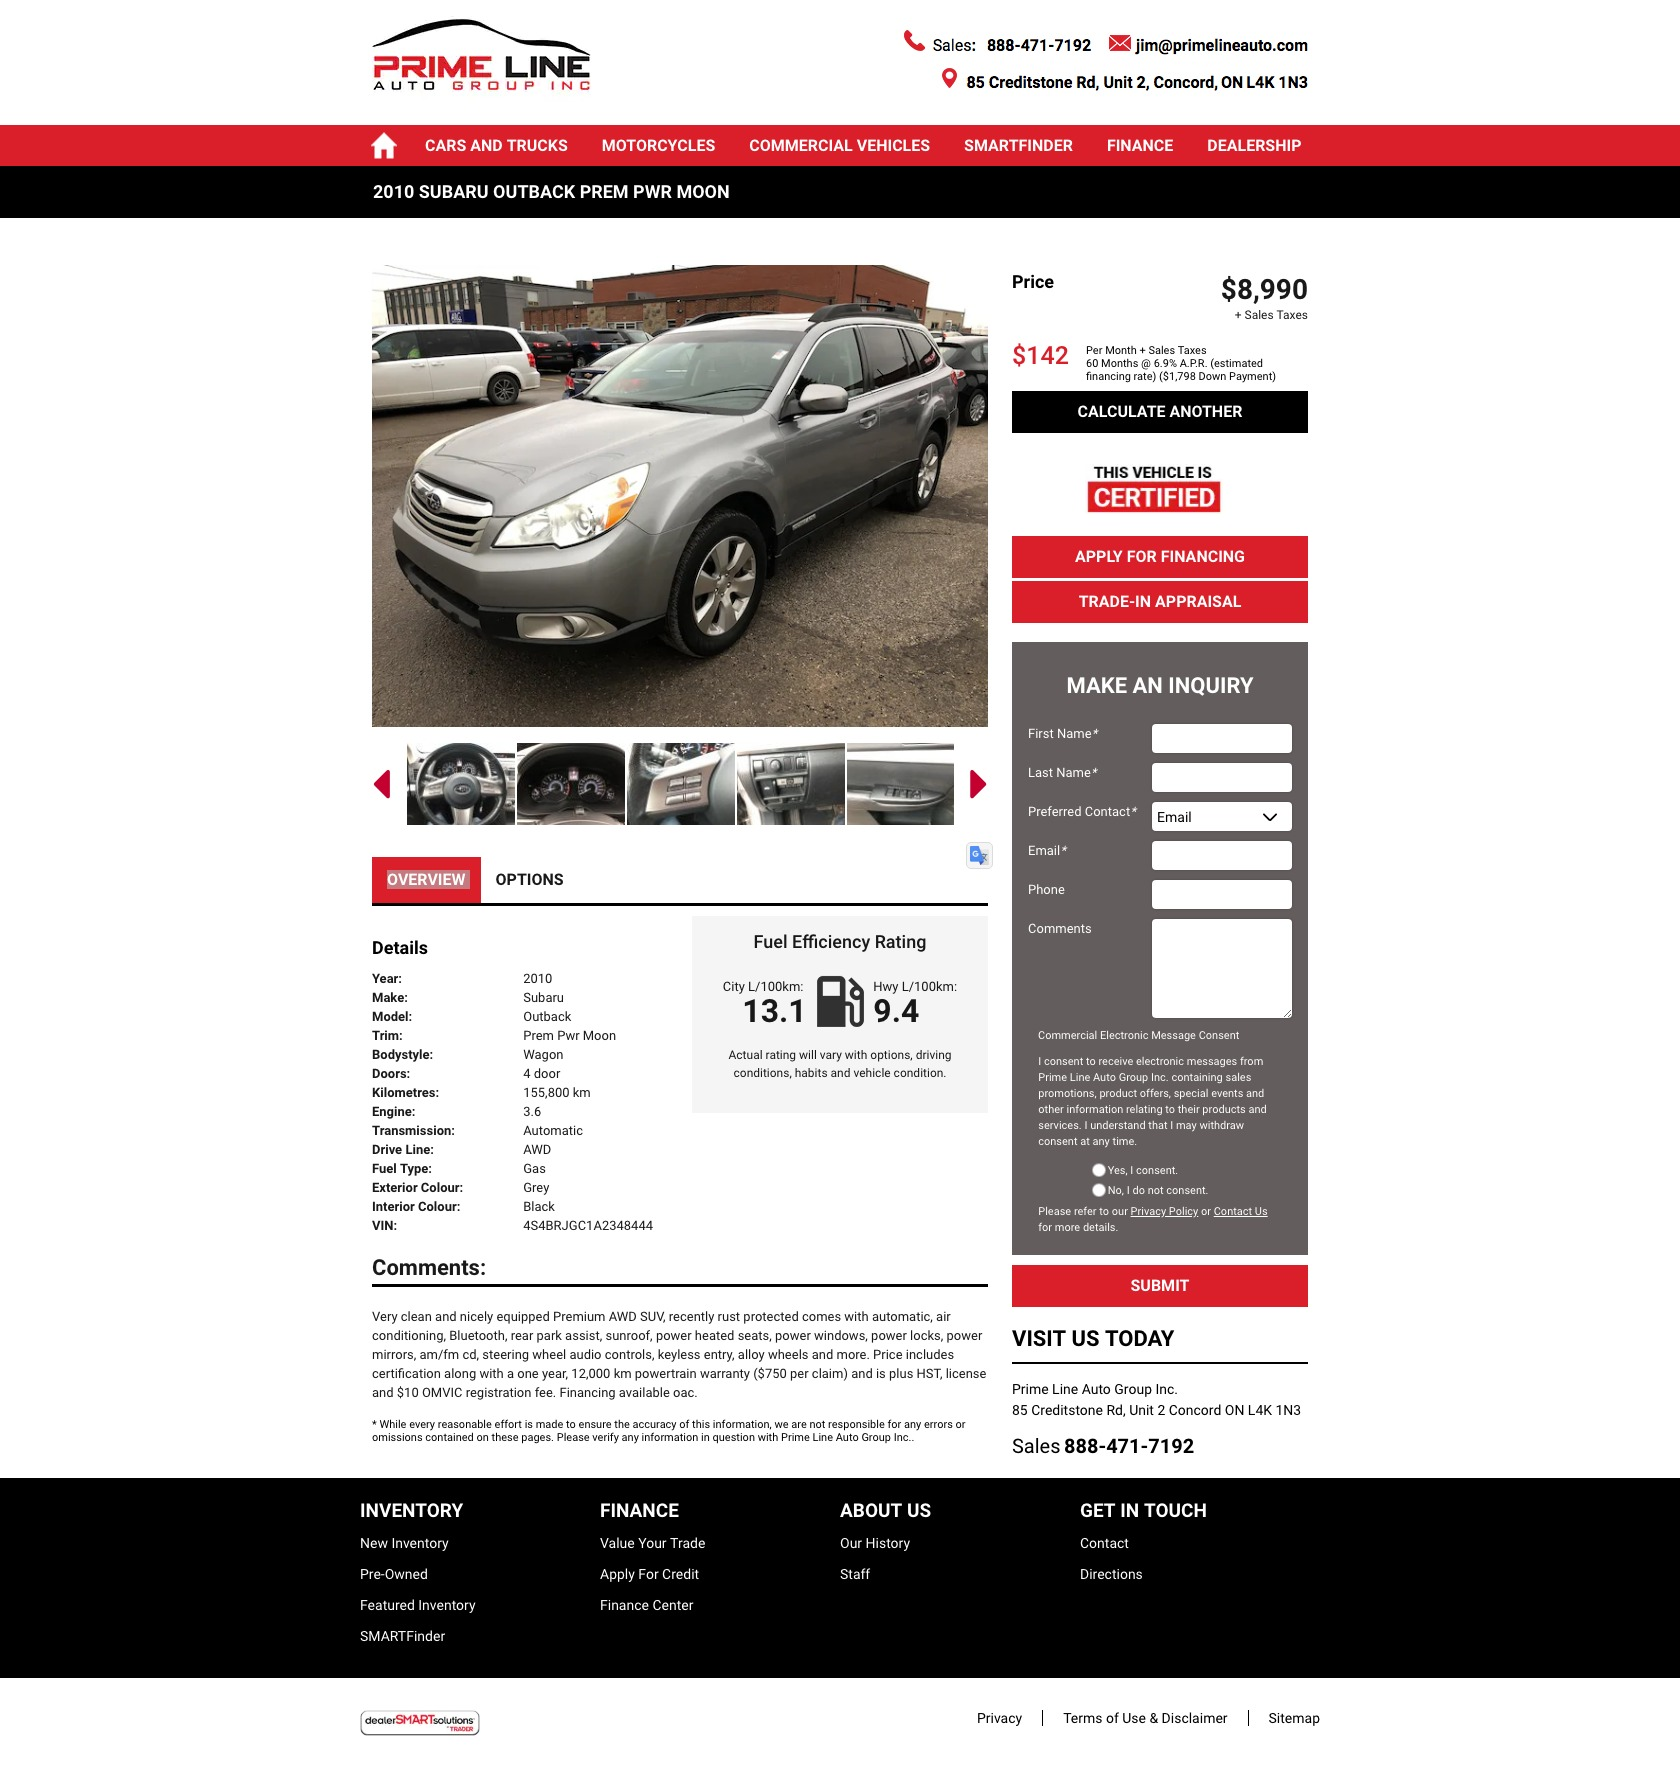car: (969, 769, 987, 800)
